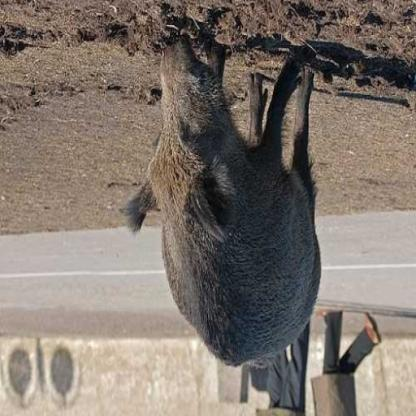boar: (91, 20, 338, 380)
